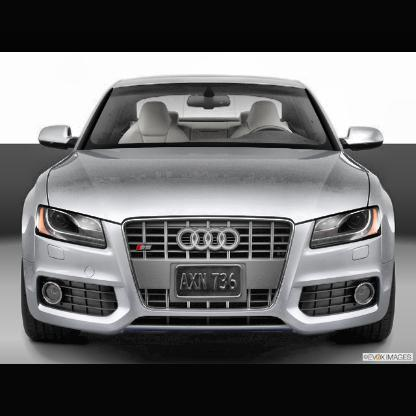Audi S5 Coupe 2012: (10, 62, 410, 357)
